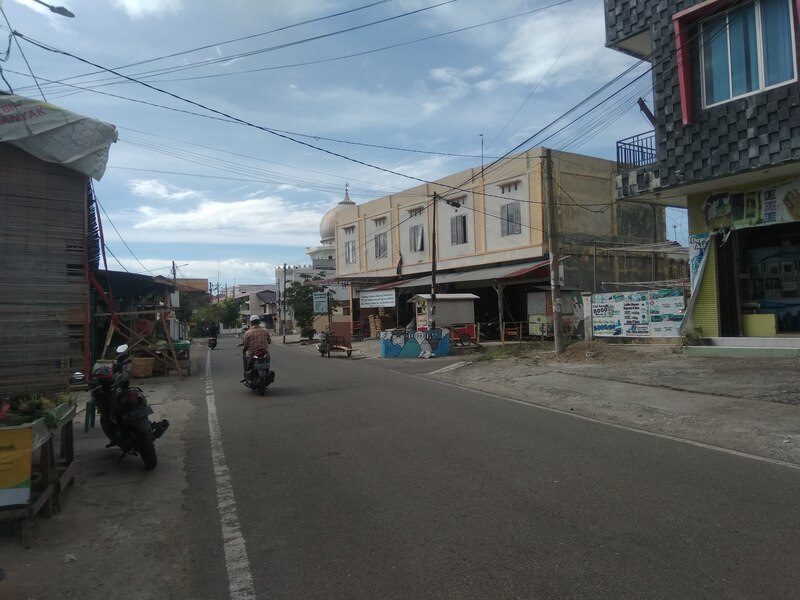becak barang: (316, 325, 356, 365)
